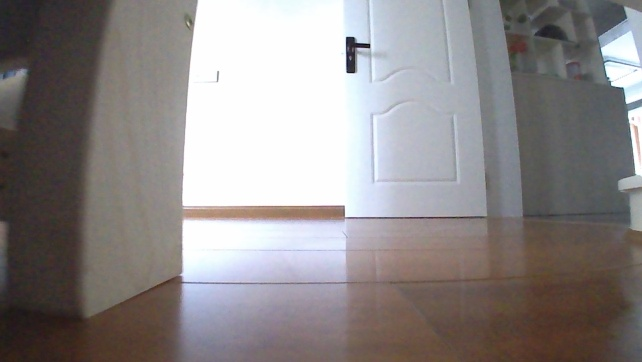door_anno: (340, 0, 526, 231)
